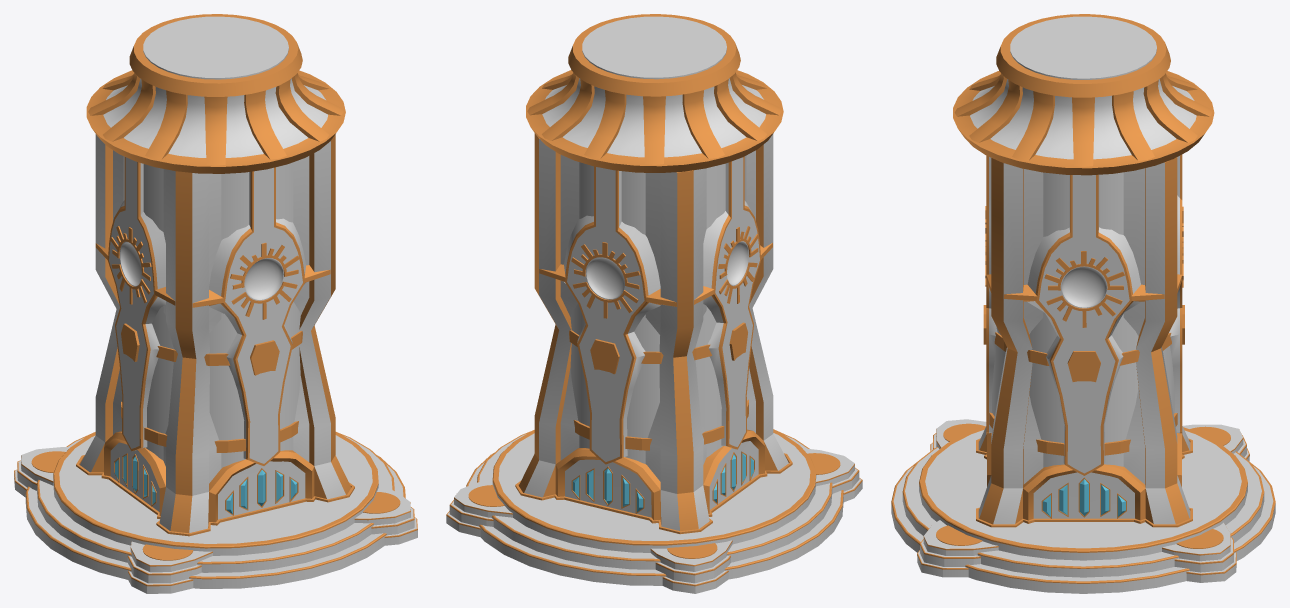
The model's file is Prop_Essence Tower.fbx.
The picture shows the model from 3 angles, left to right: view 1: azimuth 30°, elevation 25°; view 2: azimuth 150°, elevation 25°; view 3: azimuth 270°, elevation 25°; orthographic projection.
Parts seen in each view (by area): view 1: prop_Essence Tower; view 2: prop_Essence Tower; view 3: prop_Essence Tower.
Boxes of the visible parts, x1,y1,x2,y2 form: prop_Essence Tower: (14,14,417,593); prop_Essence Tower: (446,14,862,593); prop_Essence Tower: (891,14,1275,593).
Bounding box in the file's own units: 1412 × 1884 × 1412.
